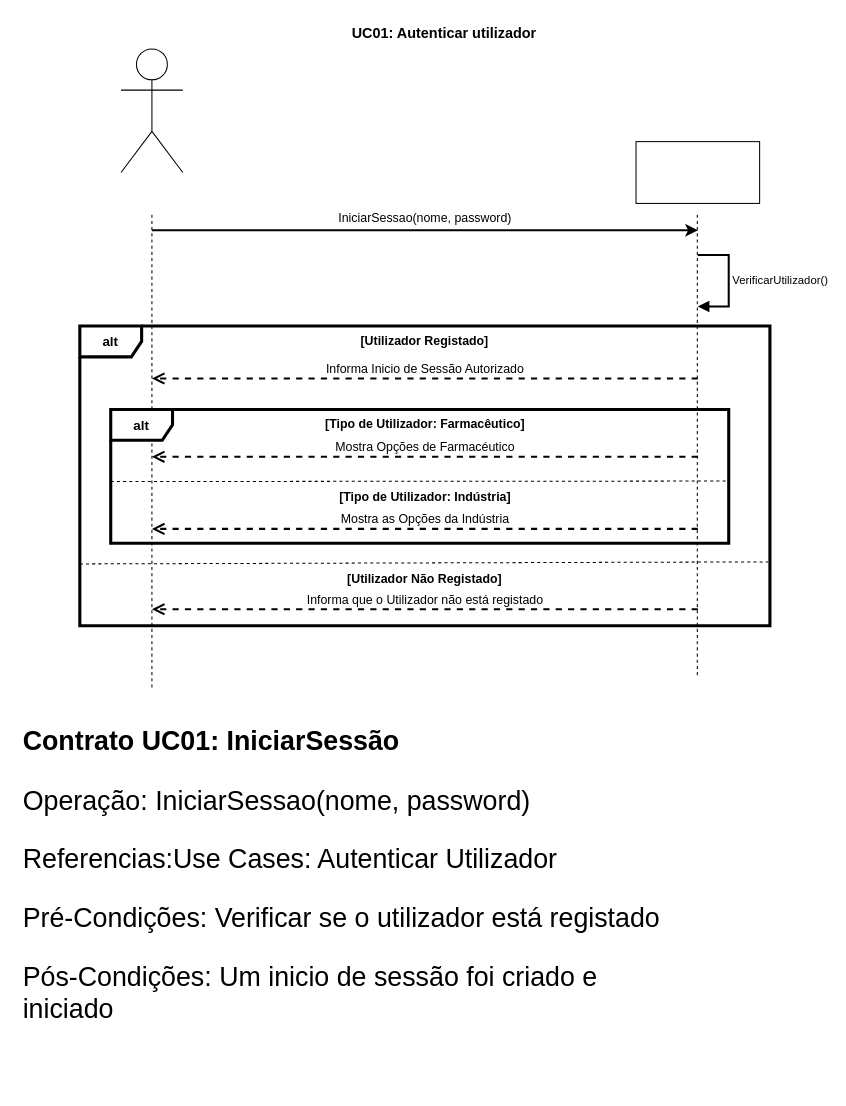
Image size: 846x1106. Some labels were removed from this diagram. The shapes that lost their labels are listed below. From the top down, each one's centre as x and y in pixels, then its label:
(151,110): :Utilizador
(697,172): :Sistema
